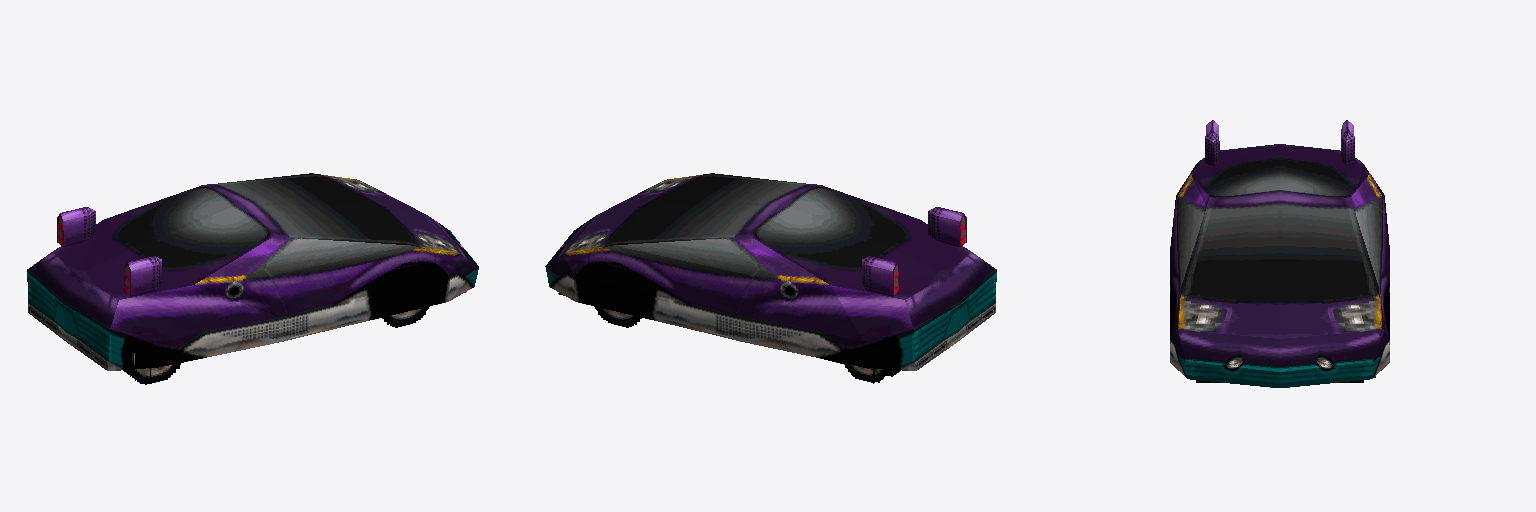
3 renders of one model, left to right at view 1: azimuth 30°, elevation 25°; view 2: azimuth 150°, elevation 25°; view 3: azimuth 270°, elevation 25°, orthographic.
Bounding box in the file's own units: 654 × 186 × 322.
1 materials, 1 textured.